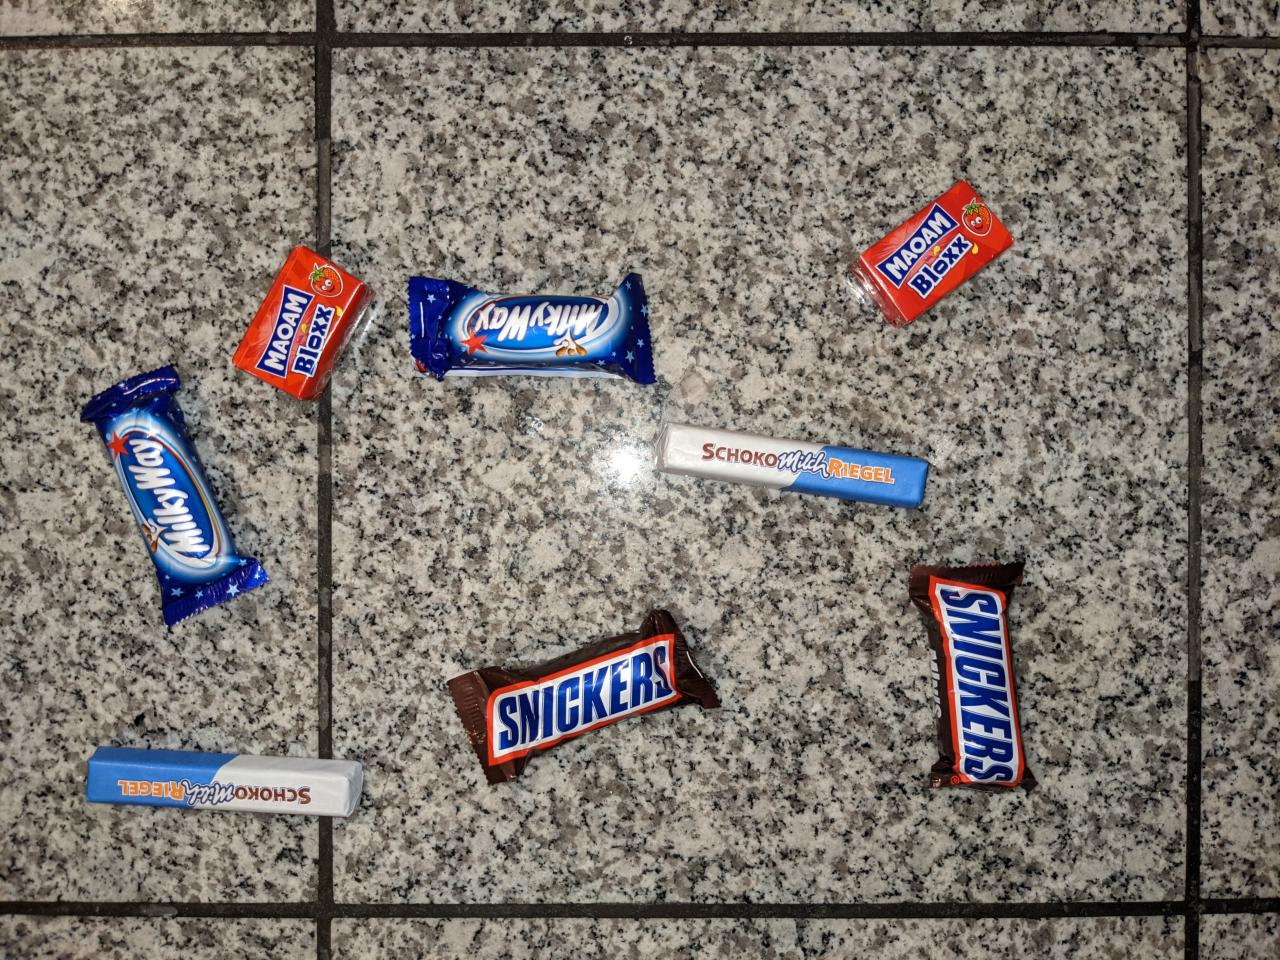MAOAM: (849, 176, 1019, 333), (226, 242, 382, 406)
MilkyWay: (76, 361, 276, 633), (400, 267, 661, 391)
Schokoriegel: (649, 419, 935, 517), (83, 742, 370, 823)
Snickers: (443, 603, 730, 790), (902, 557, 1042, 801)
